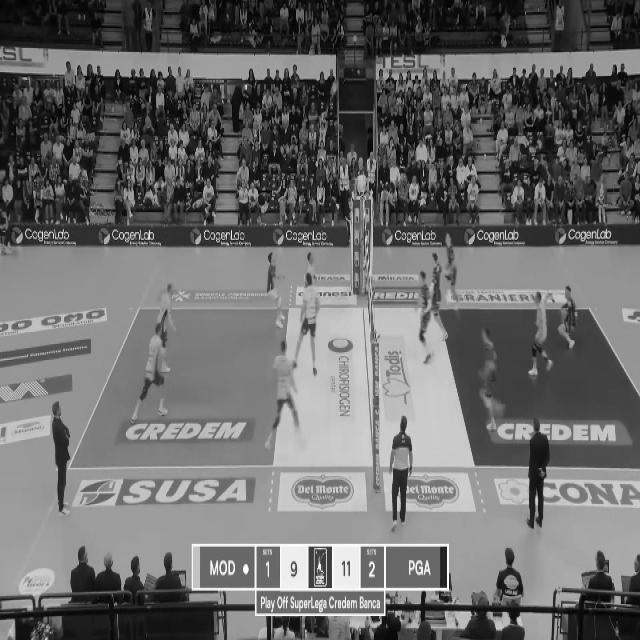volleyball court: (67, 306, 639, 468)
